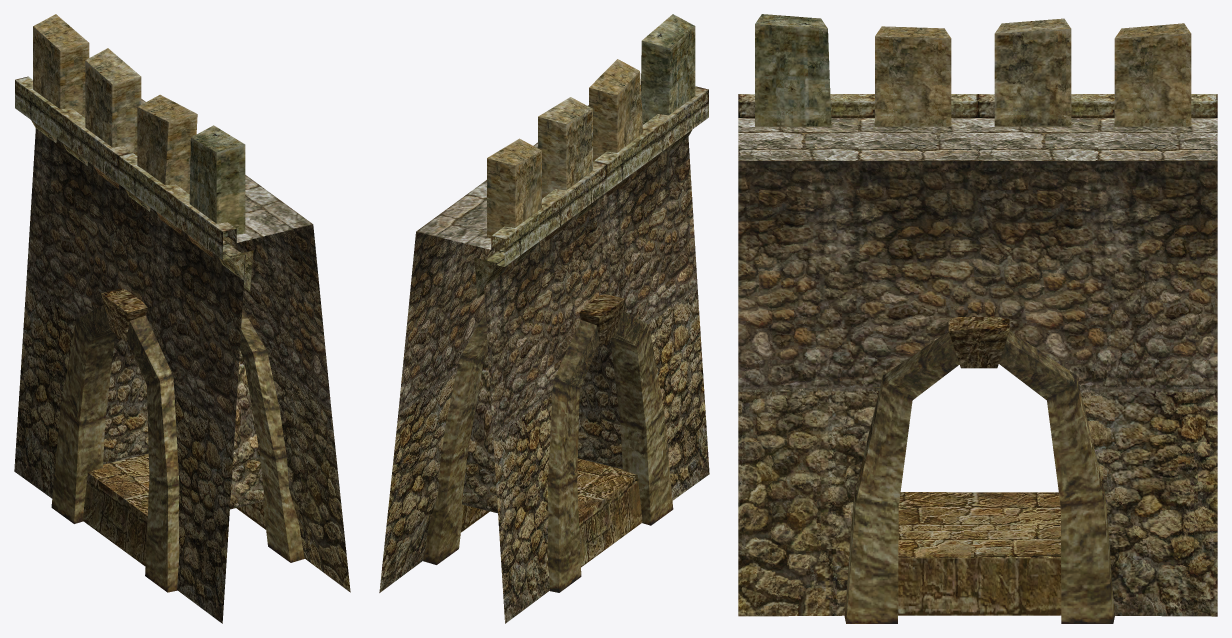
File: hrz21.glb
3 renders of one model, left to right at view 1: azimuth 30°, elevation 25°; view 2: azimuth 150°, elevation 25°; view 3: azimuth 270°, elevation 25°, orthographic. The views are drawn at different scales.
Visible parts, largest first — view 1: hrz21-col; view 2: hrz21-col; view 3: hrz21-col.
Boxes of the visible parts, <box> form: hrz21-col: <box>14,14,350,623</box>; hrz21-col: <box>379,14,709,623</box>; hrz21-col: <box>738,14,1217,623</box>.
Size of the model in its own units: 3.36 by 9.89 by 8.
Materials: 15 (15 with a texture image).
